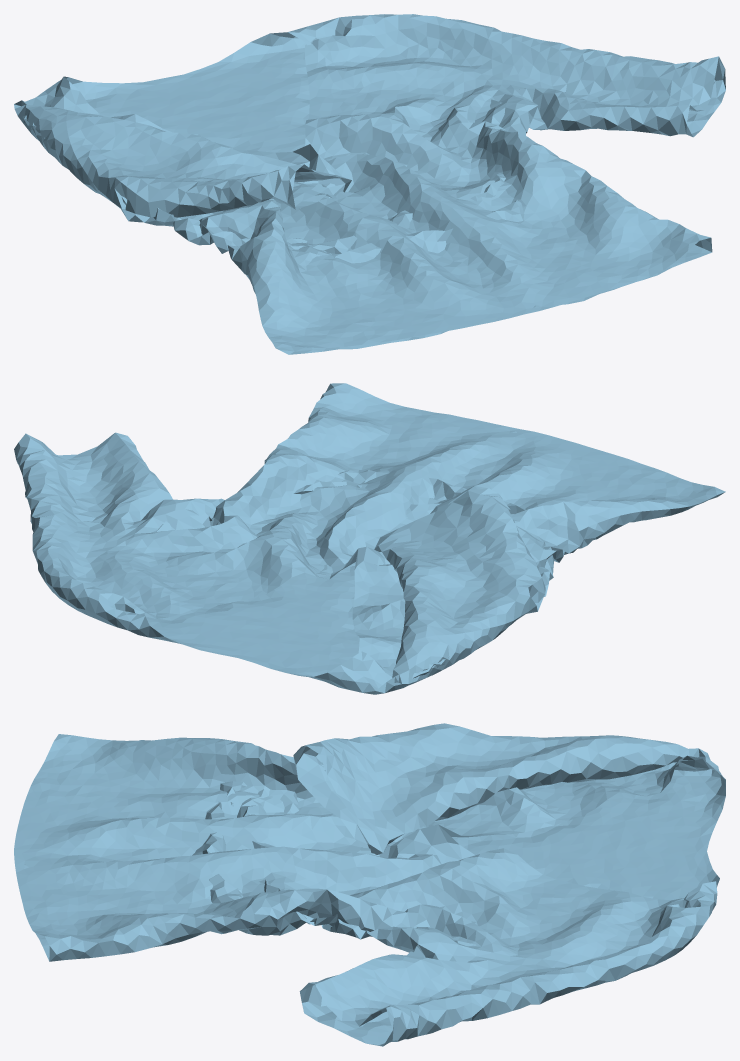
The model's file is frame_20.glb.
The picture shows the model from 3 angles, top to bottom: view 1: azimuth 30°, elevation 25°; view 2: azimuth 150°, elevation 25°; view 3: azimuth 270°, elevation 25°; orthographic projection. The views are drawn at different scales.
Visible parts, largest first — view 1: frame_20.obj; view 2: frame_20.obj; view 3: frame_20.obj.
Part boxes in pixels (bbox=[...]): frame_20.obj: bbox=[14, 14, 725, 354]; frame_20.obj: bbox=[14, 383, 725, 694]; frame_20.obj: bbox=[14, 723, 725, 1046].
Bounding box in the file's own units: 1.54 × 0.1767 × 1.49.
